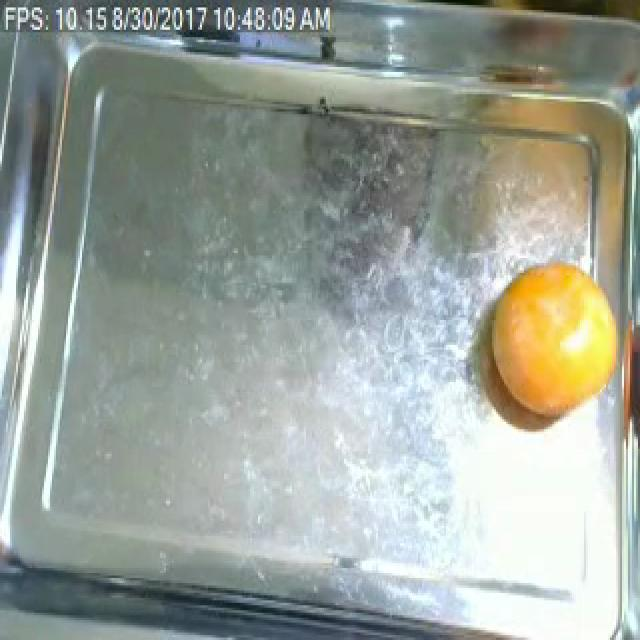Fruit: (482, 253, 624, 419), (462, 124, 604, 278)
